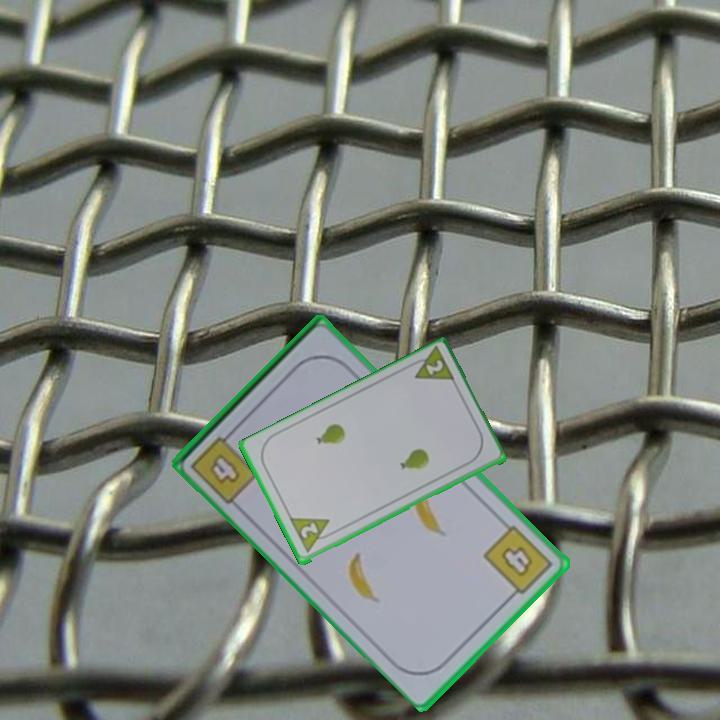2p: (286, 514, 338, 557), (404, 345, 458, 386)
4b: (479, 520, 556, 603), (187, 424, 261, 507)
